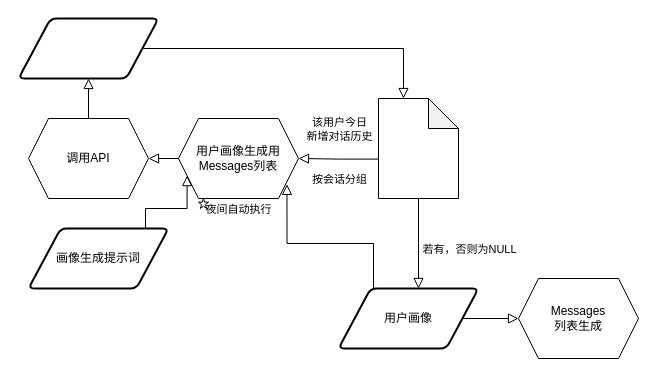
Image size: 656x376. Some labels were removed from this diagram. The shapes that lost their labels are listed below. From the top down, each one's centre as x and y in pixels, then its label:
At [88,48]: "用户画像(新版)".
At [418,148]: "SQL数据库".
